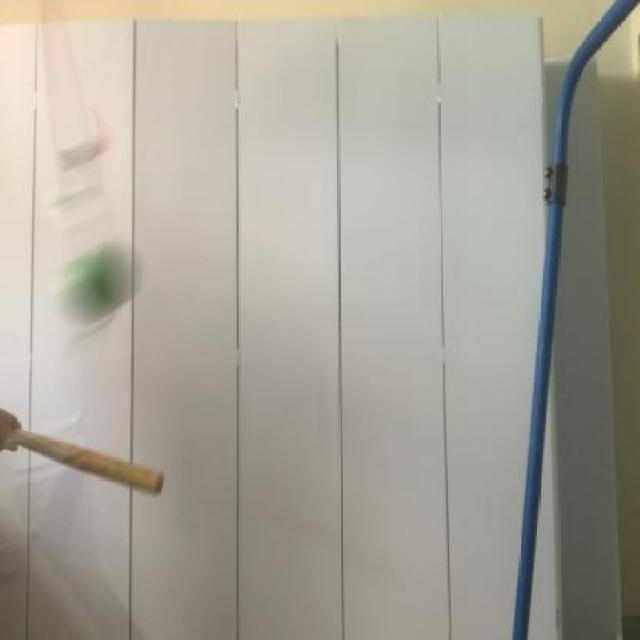baseball: (48, 229, 144, 331)
